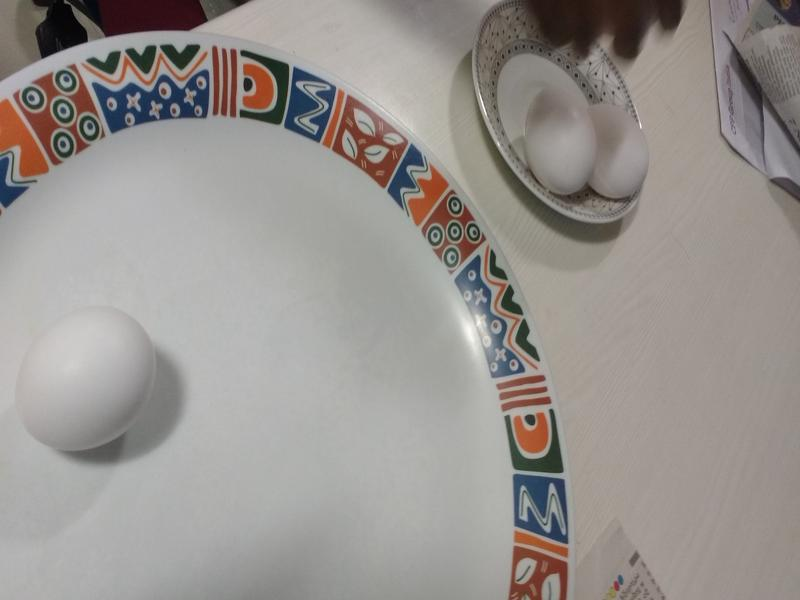egg: (15, 312, 150, 455)
